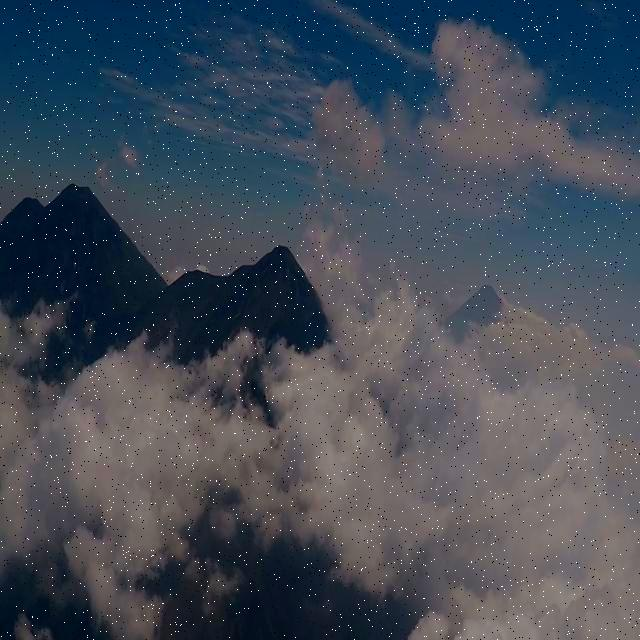Summit: (227, 235, 312, 289)
